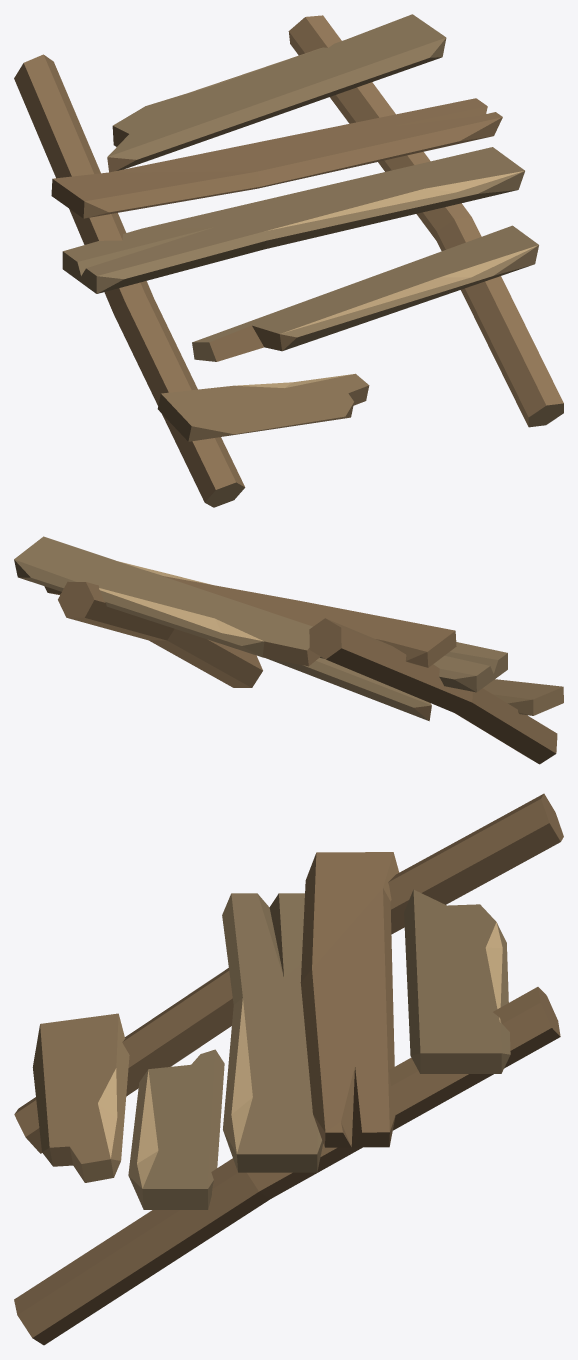
File: rpgpp_av_stairs_entrance_01a.gltf
3 views of the same model, one above another, from view 1: azimuth 30°, elevation 25°; view 2: azimuth 150°, elevation 25°; view 3: azimuth 270°, elevation 25° (orthographic). The views are drawn at different scales.
Parts seen in each view (by area): view 1: rpgpp_av_stairs_entrance_01a; view 2: rpgpp_av_stairs_entrance_01a; view 3: rpgpp_av_stairs_entrance_01a.
Part boxes in pixels (x1,y1,x2,y2): rpgpp_av_stairs_entrance_01a: [14, 14, 563, 507]; rpgpp_av_stairs_entrance_01a: [14, 536, 563, 764]; rpgpp_av_stairs_entrance_01a: [14, 793, 563, 1345].
Bounding box in the file's own units: 0.0238 × 0.0153 × 0.0207.
Materials: 1 (1 with a texture image).
